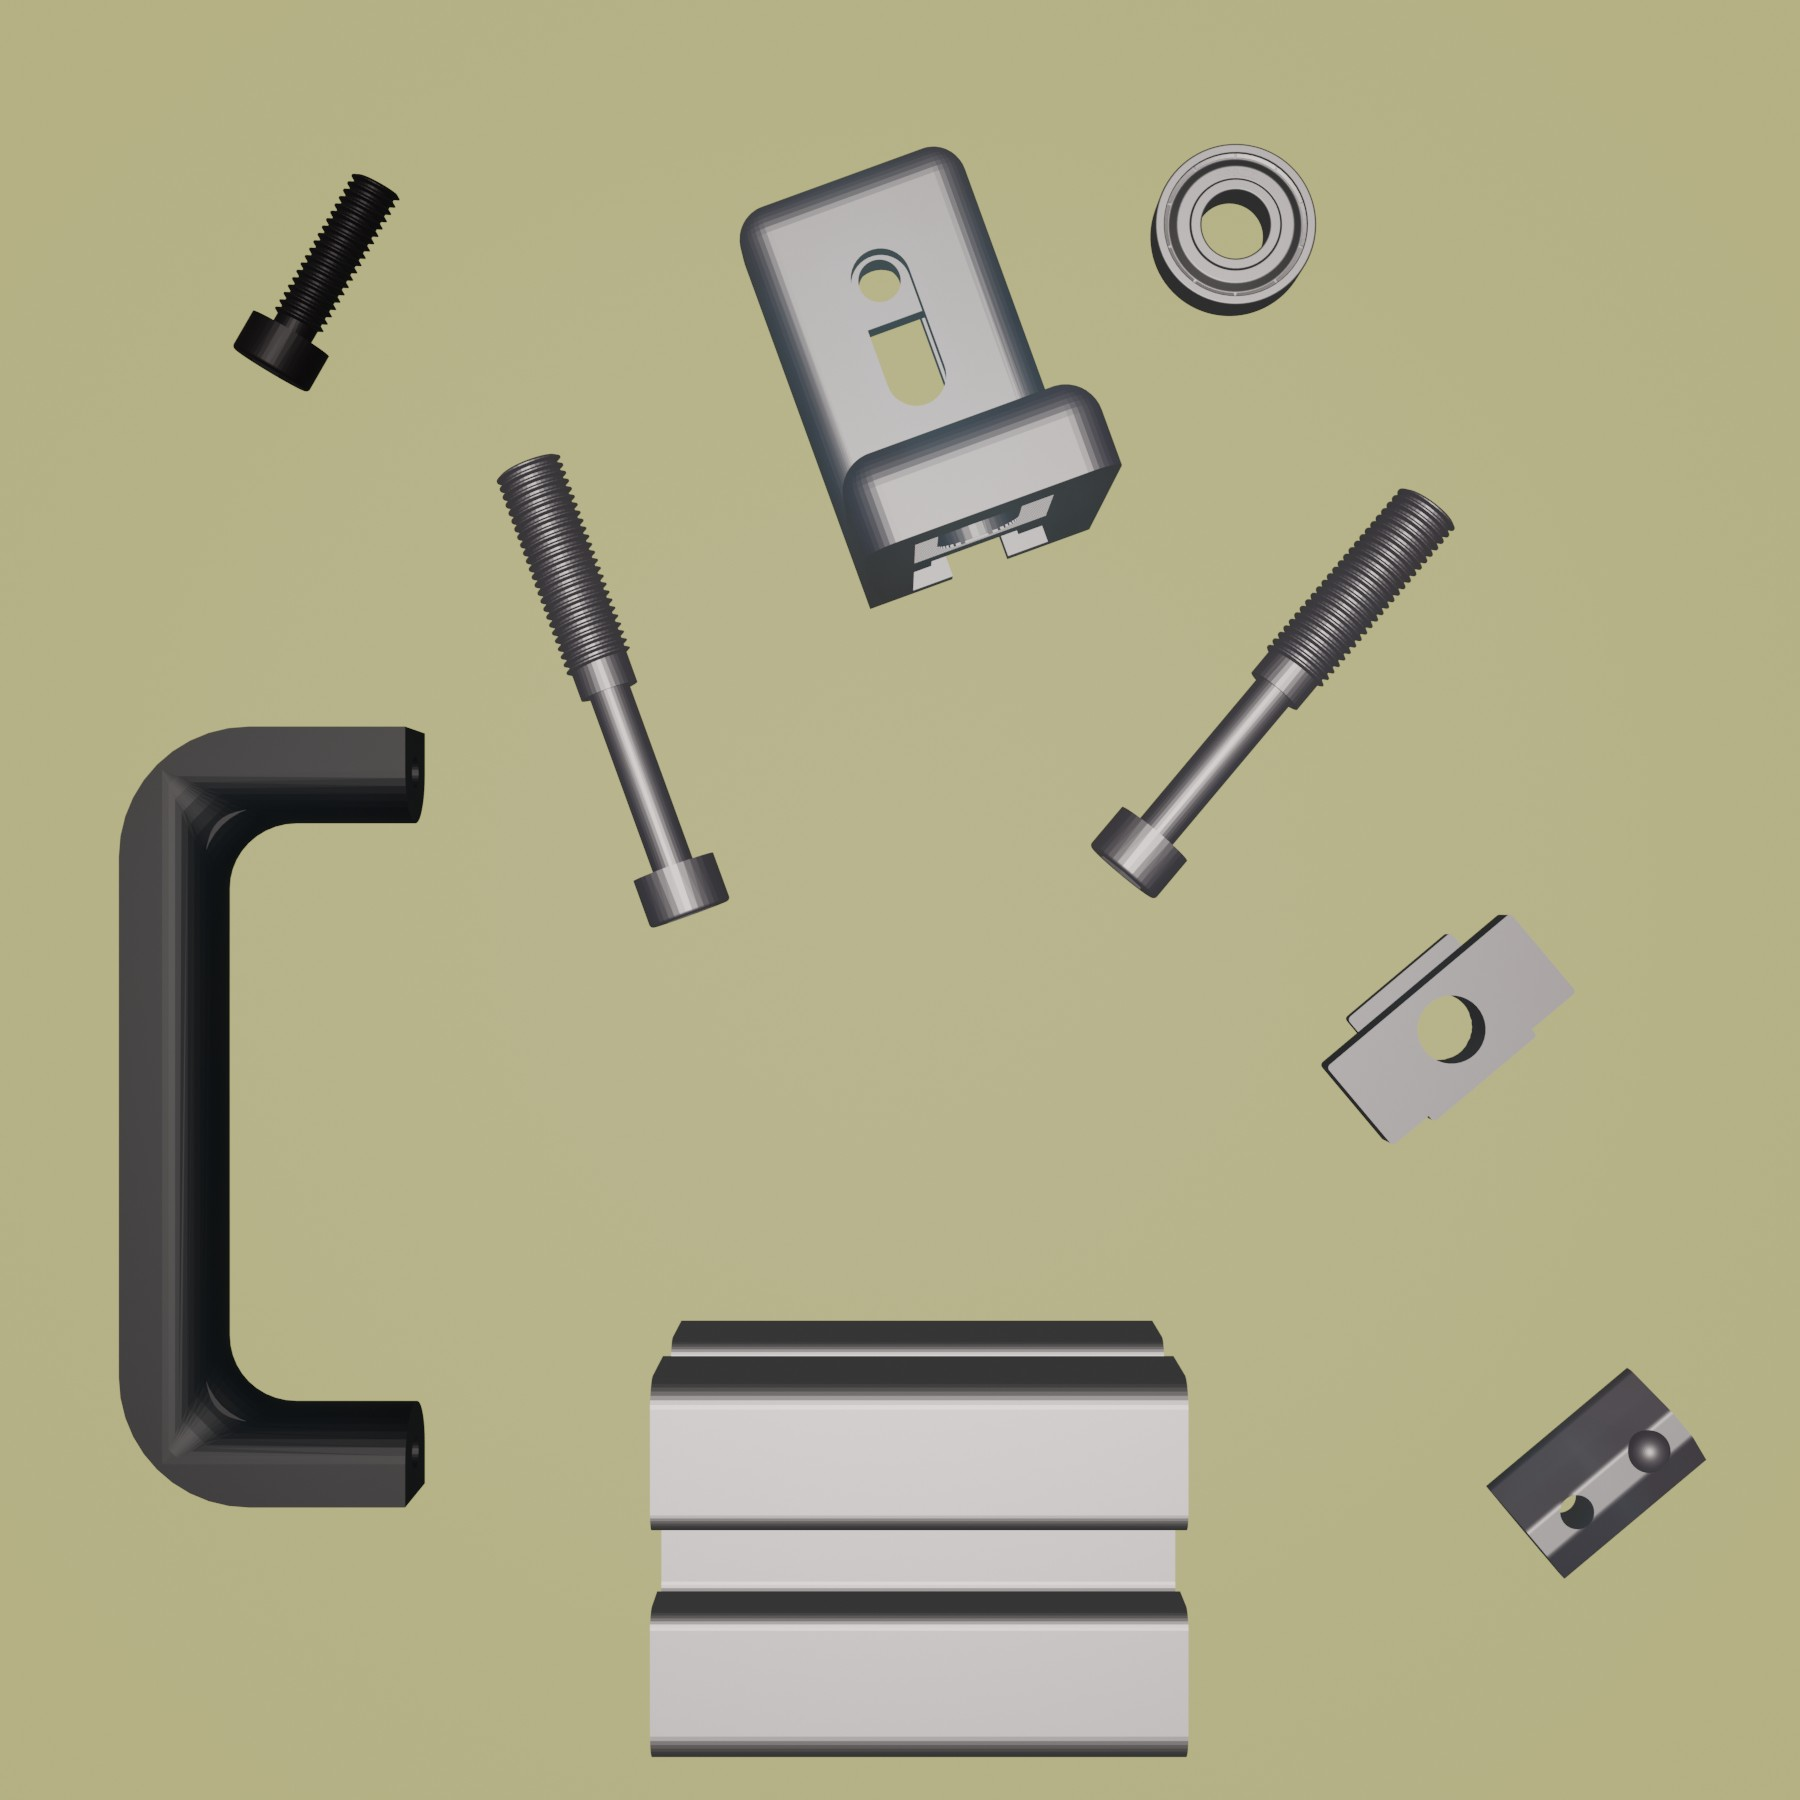Aluminium Extension: (643, 1314, 1193, 1762)
Ball Bearing: (1146, 138, 1317, 320)
Multiwinkel: (738, 143, 1121, 613)
Pull Handle: (112, 720, 429, 1512)
Shoulder Socket Head Cap Screw: (1090, 485, 1459, 903), (493, 450, 730, 931)
Socket Head Cap Screw: (229, 168, 401, 392)
T Nut Square: (1315, 912, 1577, 1146)
T Spring Nut: (1485, 1362, 1706, 1582)
